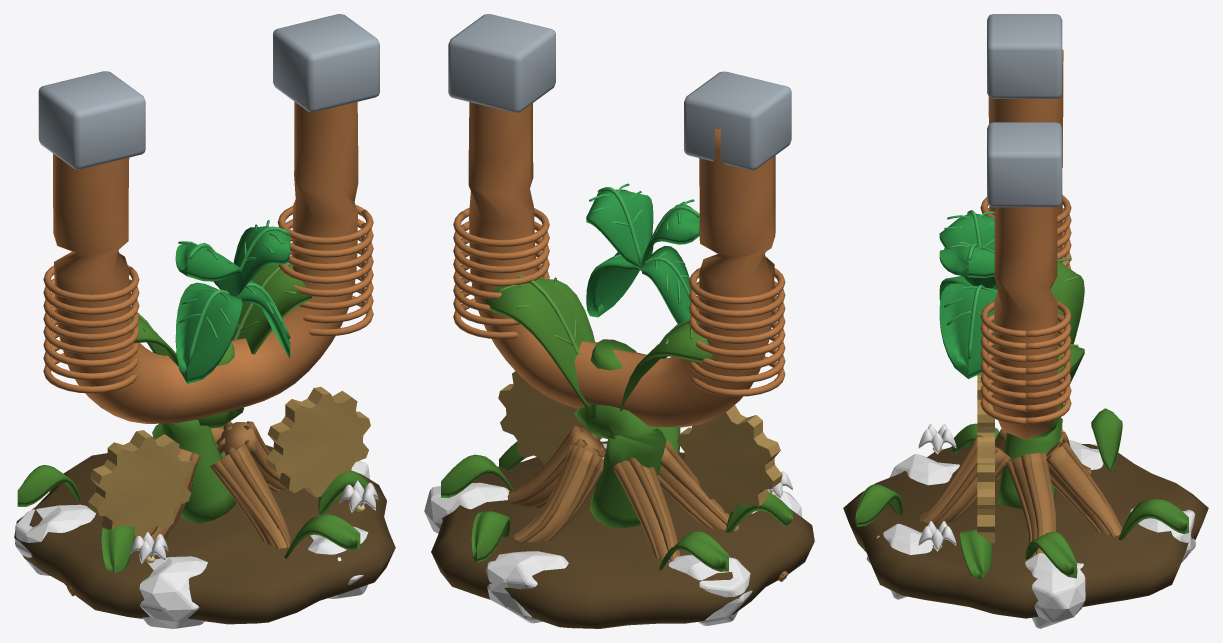
Rendered from magnet-3.fbx.
The picture shows the model from 3 angles, left to right: view 1: azimuth 30°, elevation 25°; view 2: azimuth 150°, elevation 25°; view 3: azimuth 270°, elevation 25°; orthographic projection. The views are drawn at different scales.
Parts seen in each view (by area): view 1: Barrel_Metal, magnet-3_Organic, Core_Metal, Coils_Metal, Clover_PortalBamboo, Turret_PortalBamboo, magnet-3_Stone, magnet-3_Bark, magnet-3_PortalBamboo, magnet-3_Petal; view 2: Barrel_Metal, magnet-3_Organic, Turret_PortalBamboo, Coils_Metal, magnet-3_Bark, Core_Metal, Clover_PortalBamboo, magnet-3_Stone, magnet-3_PortalBamboo; view 3: magnet-3_Organic, Barrel_Metal, magnet-3_Bark, Coils_Metal, Clover_PortalBamboo, magnet-3_PortalBamboo, magnet-3_Stone, Turret_PortalBamboo, Core_Metal, magnet-3_Petal.
Boxes of the visible parts, box(x1,y1,x2,y2) form: Barrel_Metal: box(38, 14, 379, 423); magnet-3_Organic: box(14, 445, 395, 624); Core_Metal: box(88, 387, 370, 538); Coils_Metal: box(43, 205, 373, 393); Clover_PortalBamboo: box(175, 220, 290, 383); Turret_PortalBamboo: box(130, 262, 311, 523); magnet-3_Stone: box(15, 461, 369, 628); magnet-3_Bark: box(67, 421, 290, 596); magnet-3_PortalBamboo: box(17, 451, 368, 572); magnet-3_Petal: box(129, 480, 378, 563); Barrel_Metal: box(448, 14, 791, 427); magnet-3_Organic: box(431, 441, 814, 628); Turret_PortalBamboo: box(485, 274, 716, 528); Coils_Metal: box(453, 208, 785, 396); magnet-3_Bark: box(507, 425, 787, 581); Core_Metal: box(498, 371, 782, 513); Clover_PortalBamboo: box(586, 183, 699, 323); magnet-3_Stone: box(424, 443, 802, 625); magnet-3_PortalBamboo: box(441, 426, 792, 571); magnet-3_Organic: box(843, 444, 1208, 618); Barrel_Metal: box(987, 14, 1063, 440); magnet-3_Bark: box(918, 426, 1122, 556); Coils_Metal: box(980, 195, 1071, 424); Clover_PortalBamboo: box(939, 210, 997, 378); magnet-3_PortalBamboo: box(855, 408, 1188, 579); magnet-3_Stone: box(866, 440, 1195, 628); Turret_PortalBamboo: box(998, 258, 1084, 508); Core_Metal: box(977, 373, 994, 543); magnet-3_Petal: box(918, 423, 956, 551).
Size of the model in its own units: 82.25 by 120 by 82.7.
